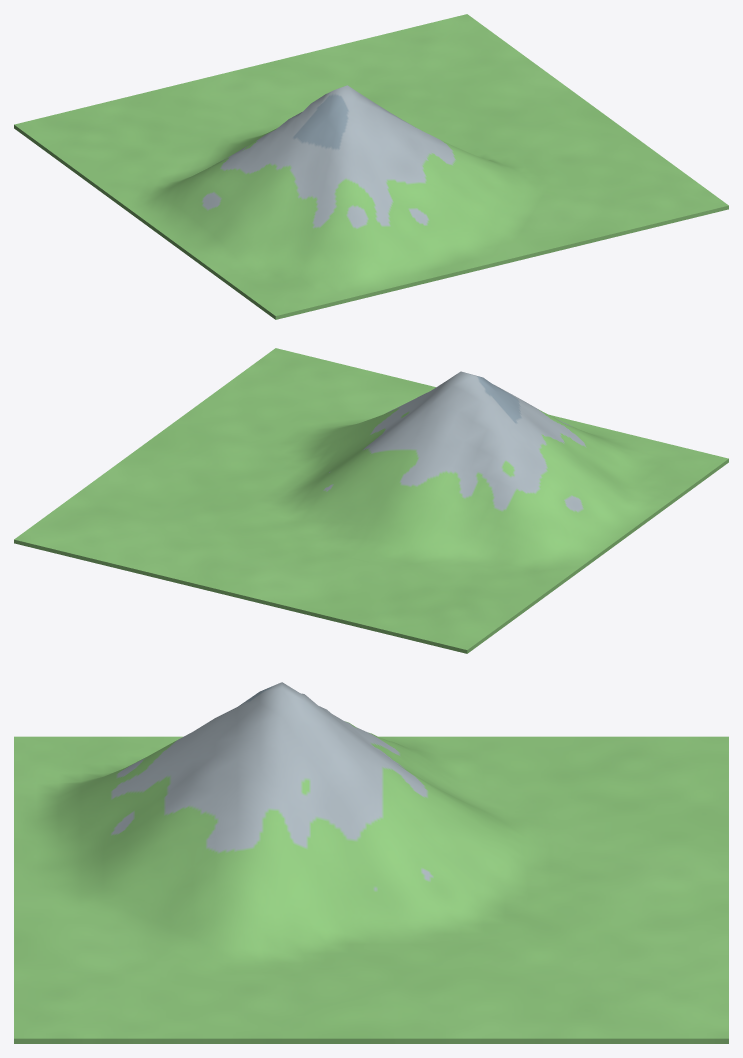
The model's file is Grass_RockyMountains_09.obj.
The picture shows the model from 3 angles, top to bottom: view 1: azimuth 30°, elevation 25°; view 2: azimuth 150°, elevation 25°; view 3: azimuth 270°, elevation 25°; orthographic projection. The views are drawn at different scales.
Size of the model in its own units: 10 by 2.56 by 10.
1 material, 1 textured.
